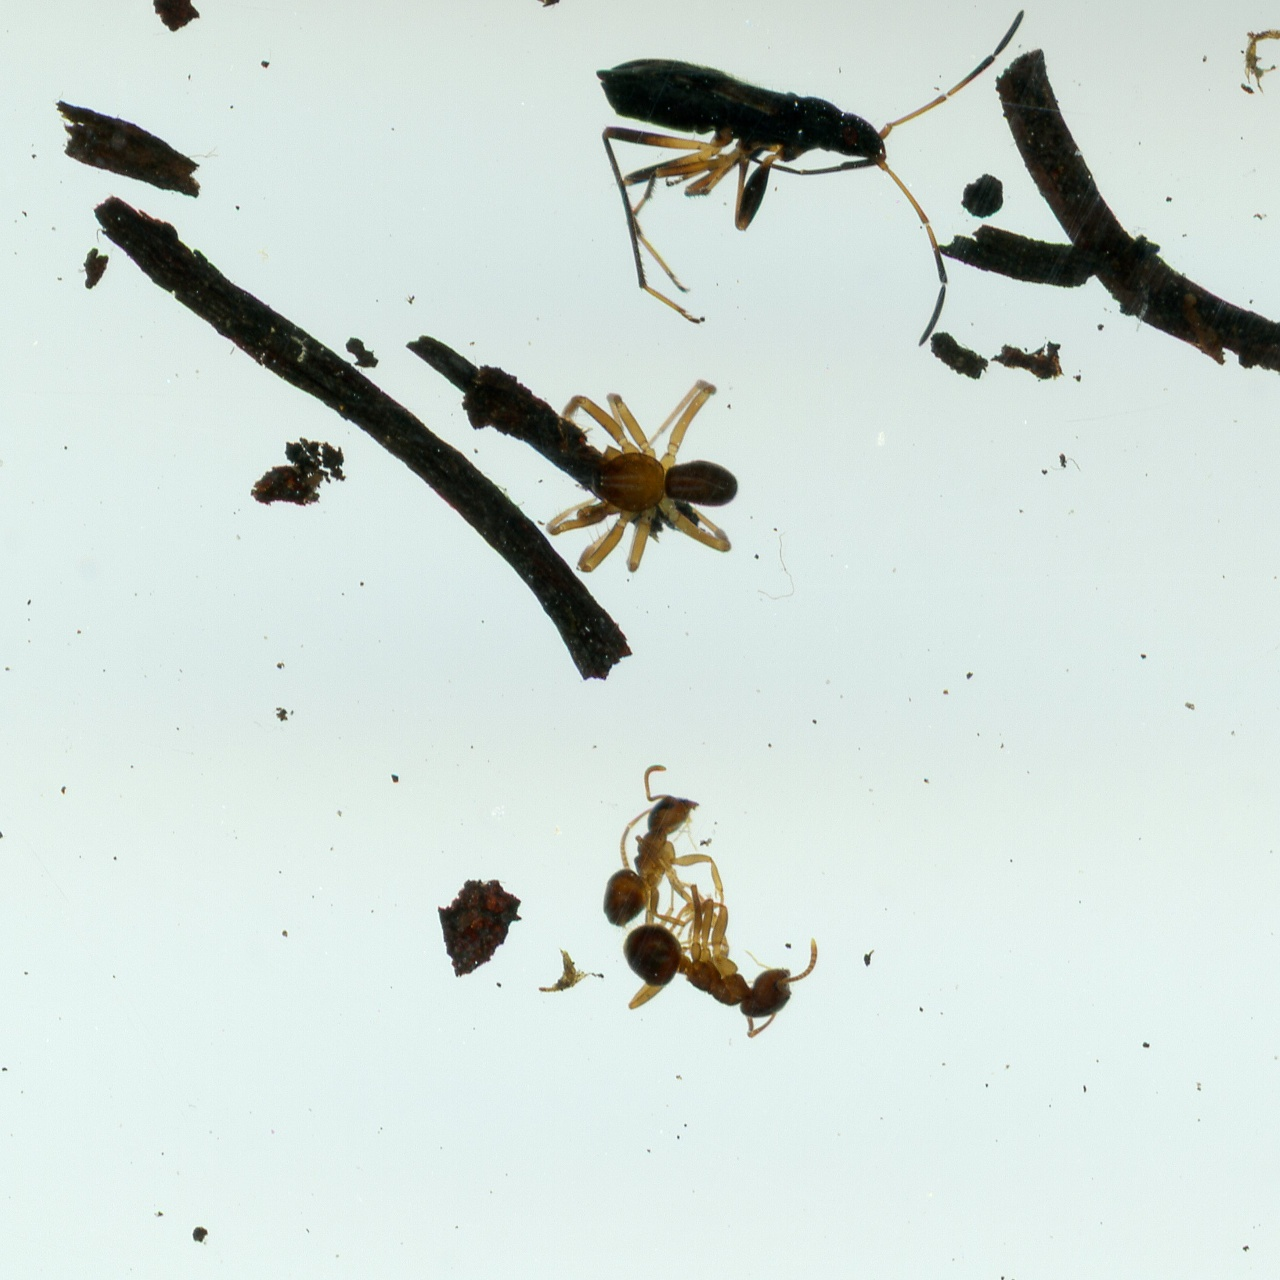arthropod: (595, 3, 1029, 342), (549, 376, 739, 572), (618, 895, 823, 1037), (600, 761, 714, 929)
